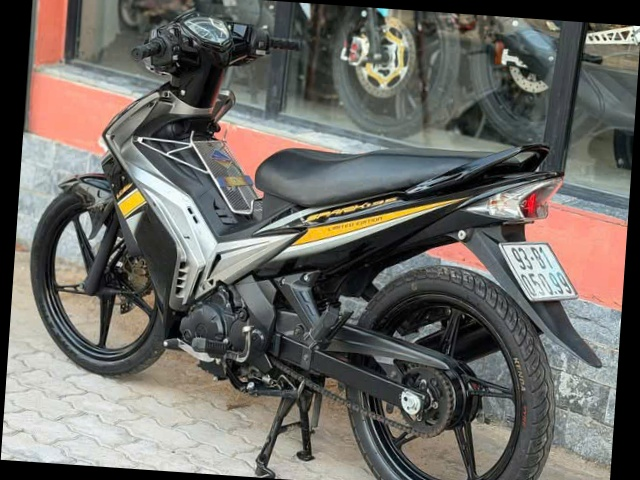Bien-so: (497, 239, 587, 307)
